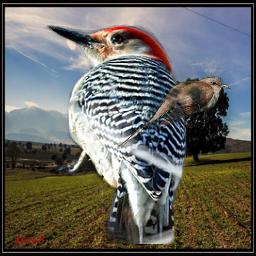Cuckoo: (117, 76, 231, 150)
Woodpecker: (38, 13, 194, 244)
